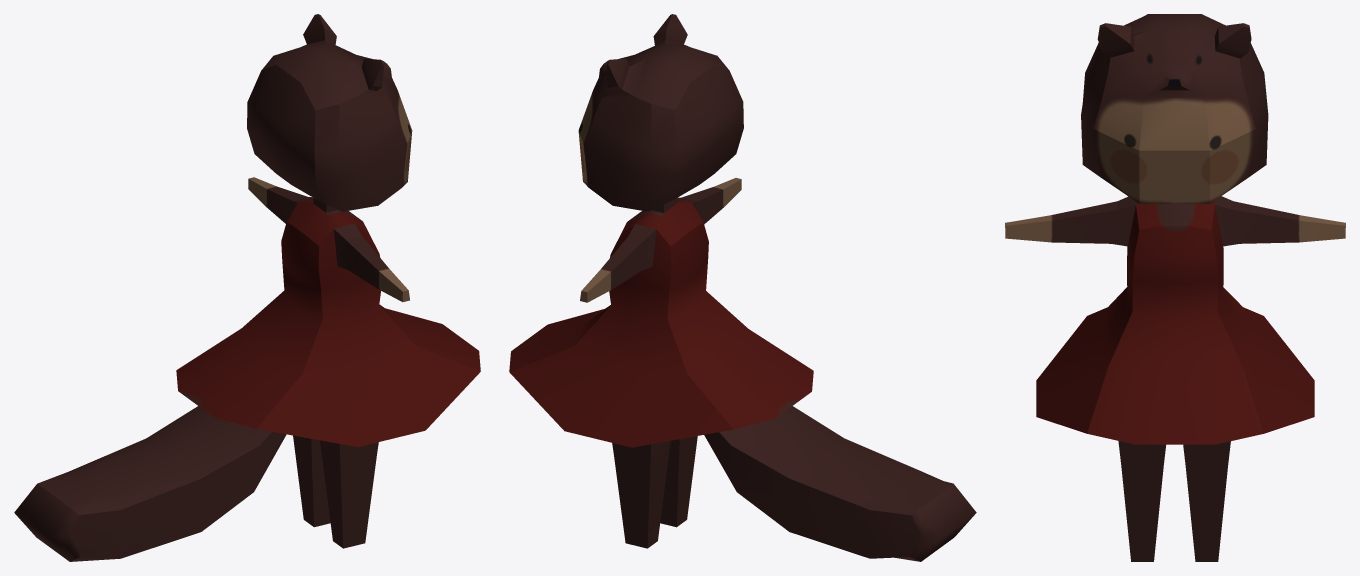
Rendered from biped.fbx.
The picture shows the model from 3 angles, left to right: view 1: azimuth 30°, elevation 25°; view 2: azimuth 150°, elevation 25°; view 3: azimuth 270°, elevation 25°; orthographic projection. The views are drawn at different scales.
Parts seen in each view (by area): view 1: biped; view 2: biped; view 3: biped.
Part boxes in pixels (<box>): biped: <box>14,14,480,561</box>; biped: <box>509,14,976,561</box>; biped: <box>1005,14,1345,561</box>.
Bounding box in the file's own units: 34.07 × 37.14 × 21.19.
Materials: 1 (1 with a texture image).
